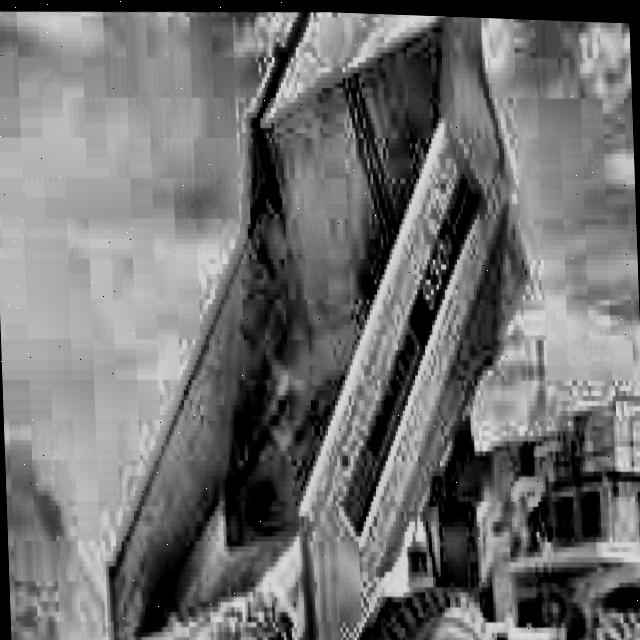dump_truck: (37, 1, 640, 640)
